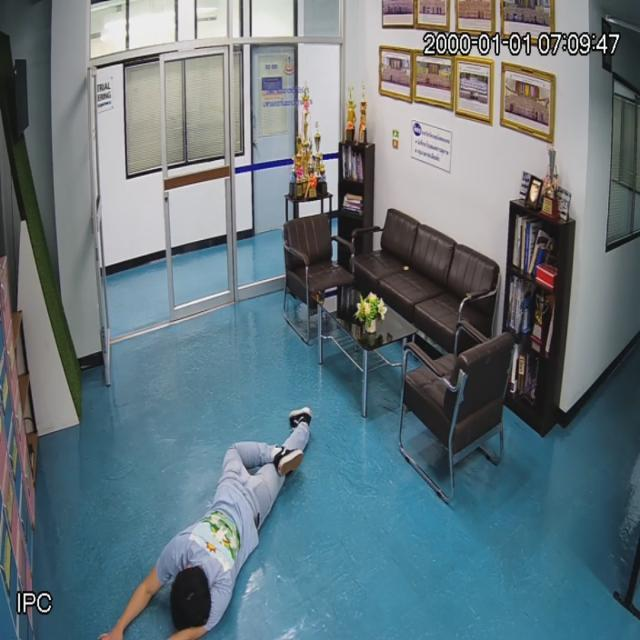fall: (126, 405, 320, 640)
